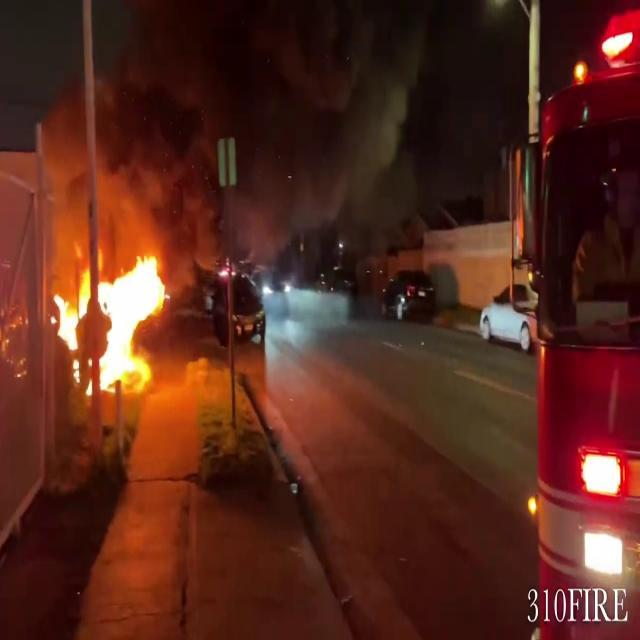Fire: (49, 236, 177, 396)
Smoke: (36, 0, 435, 252)
